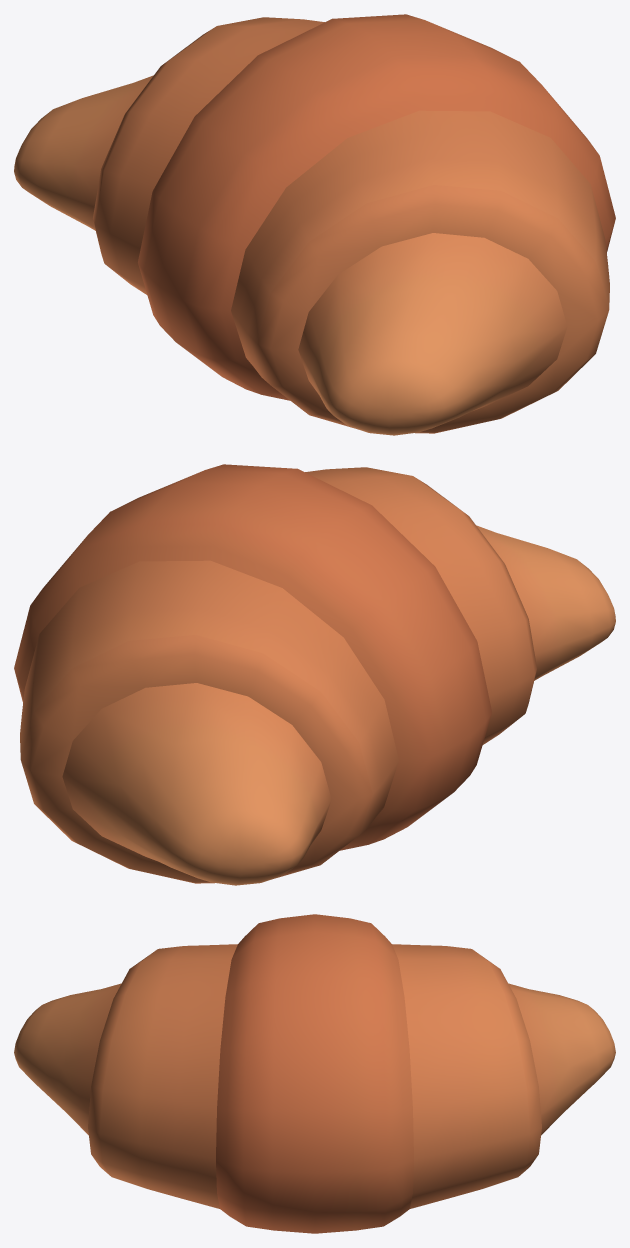
File: Croissant_V1_00.fbx
3 renders of one model, top to bottom at view 1: azimuth 30°, elevation 25°; view 2: azimuth 150°, elevation 25°; view 3: azimuth 270°, elevation 25°, orthographic. The views are drawn at different scales.
Parts seen in each view (by area): view 1: Croissant_V1_00; view 2: Croissant_V1_00; view 3: Croissant_V1_00.
Boxes of the visible parts, bbox=[...] form: Croissant_V1_00: bbox=[14, 14, 615, 435]; Croissant_V1_00: bbox=[14, 464, 615, 885]; Croissant_V1_00: bbox=[14, 914, 615, 1233].
Size of the model in its own units: 39.5 by 30.87 by 60.91.
